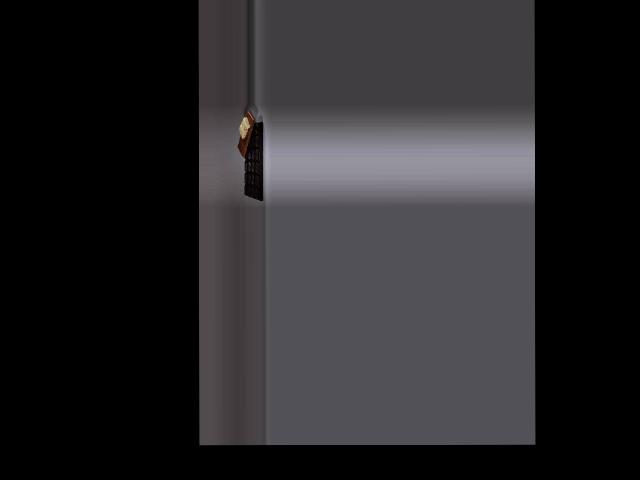chocolate: (241, 117, 266, 201)
